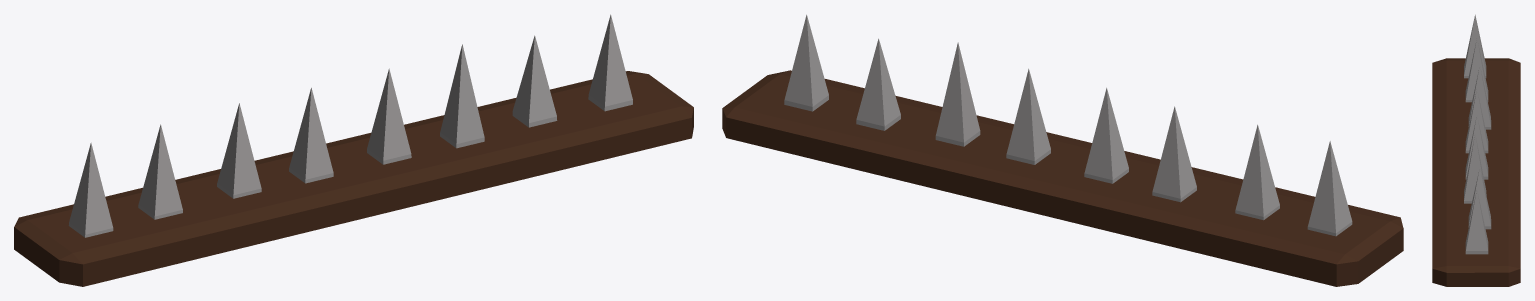
Rendered from SMLMetalSpikeWoodenTrap.fbx.
The picture shows the model from 3 angles, left to right: view 1: azimuth 30°, elevation 25°; view 2: azimuth 150°, elevation 25°; view 3: azimuth 270°, elevation 25°; orthographic projection. The views are drawn at different scales.
Visible parts, largest first — view 1: SMLMetalSpikeWoodenTrap; view 2: SMLMetalSpikeWoodenTrap; view 3: SMLMetalSpikeWoodenTrap.
Boxes of the visible parts, <box> form: SMLMetalSpikeWoodenTrap: <box>14,14,693,286</box>; SMLMetalSpikeWoodenTrap: <box>722,14,1403,286</box>; SMLMetalSpikeWoodenTrap: <box>1432,14,1520,286</box>.
Bounding box in the file's own units: 86.17 × 15.63 × 15.07.
